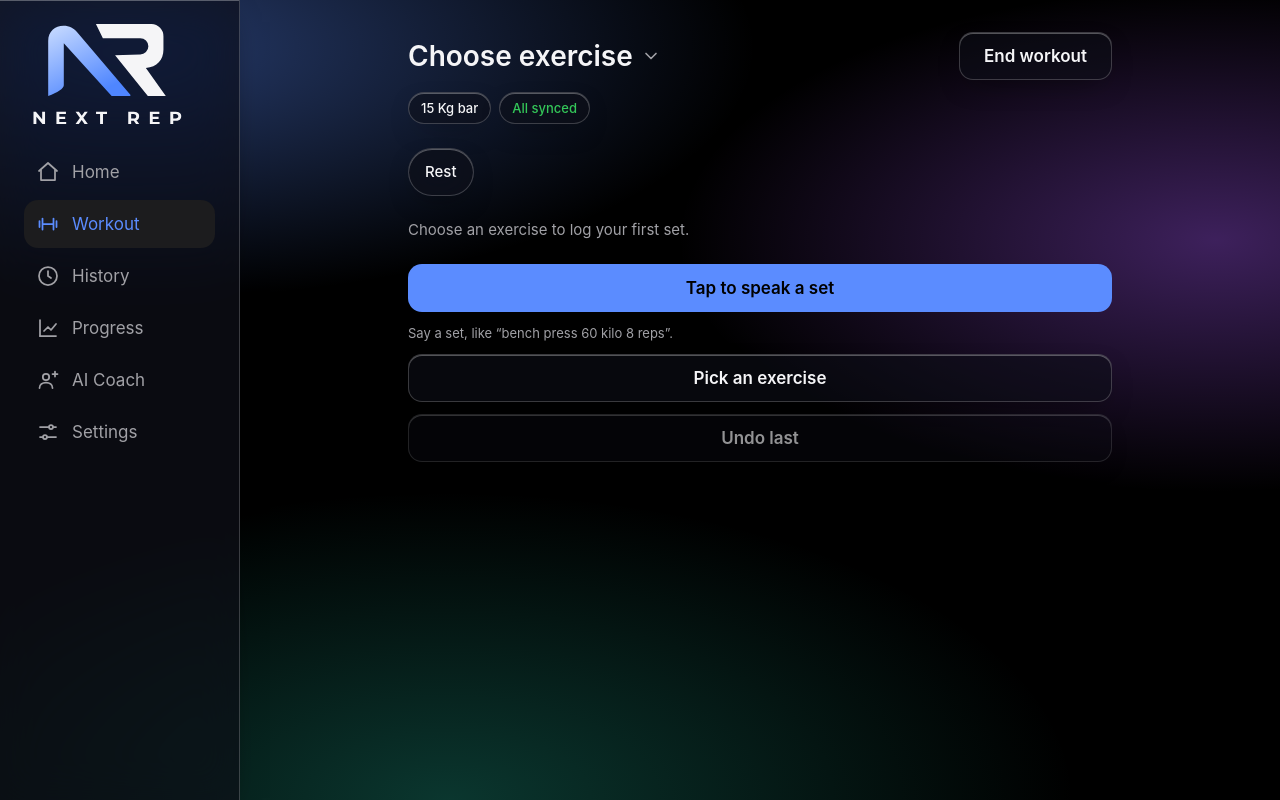
Test: starting and replacing a rest › starts a custom rest of  75  from the keyboard with Enter
The width and height of the screenshot is (1280, 800).
Click the button "Rest".
click(441, 172)  # box [408, 148, 474, 196]
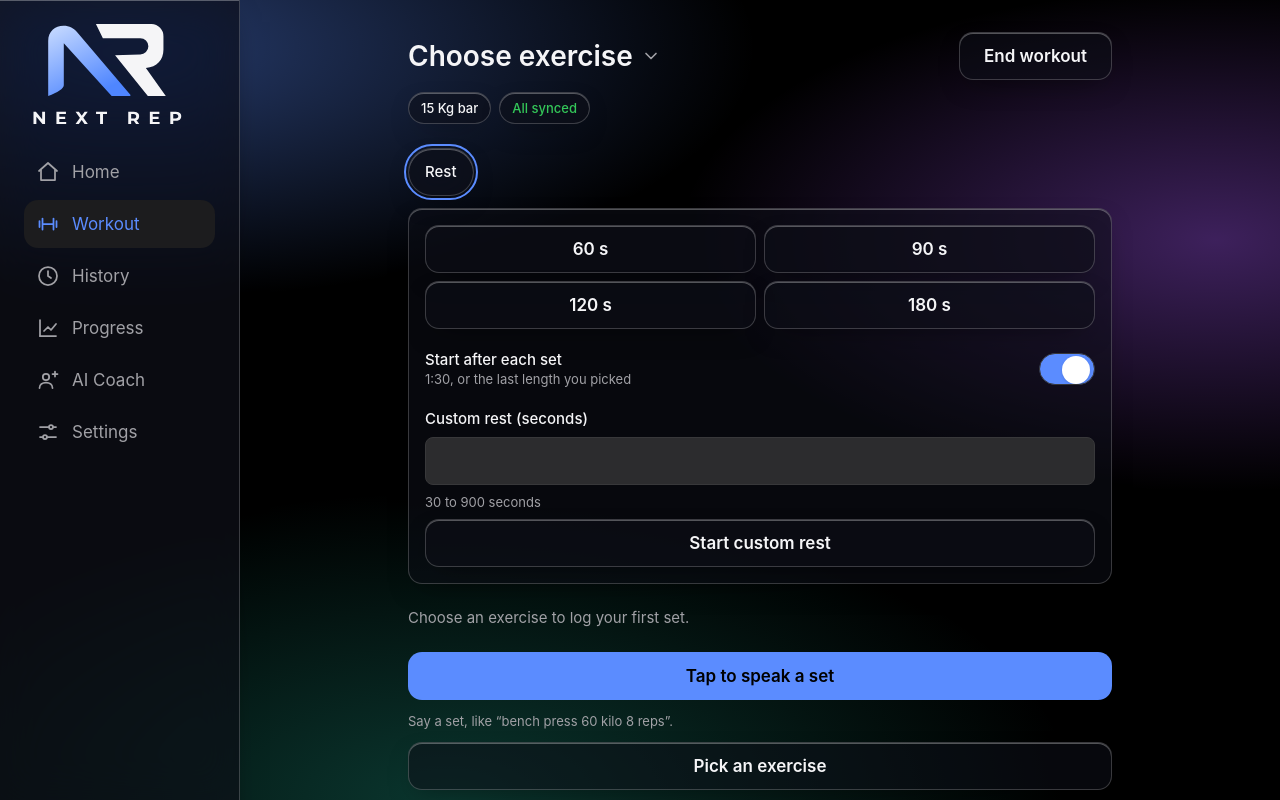
Type " 75 " into the field labelled "Custom rest (seconds)".
click(760, 461); type(" 75 ")  # box [425, 437, 1095, 485]
Then press Enter
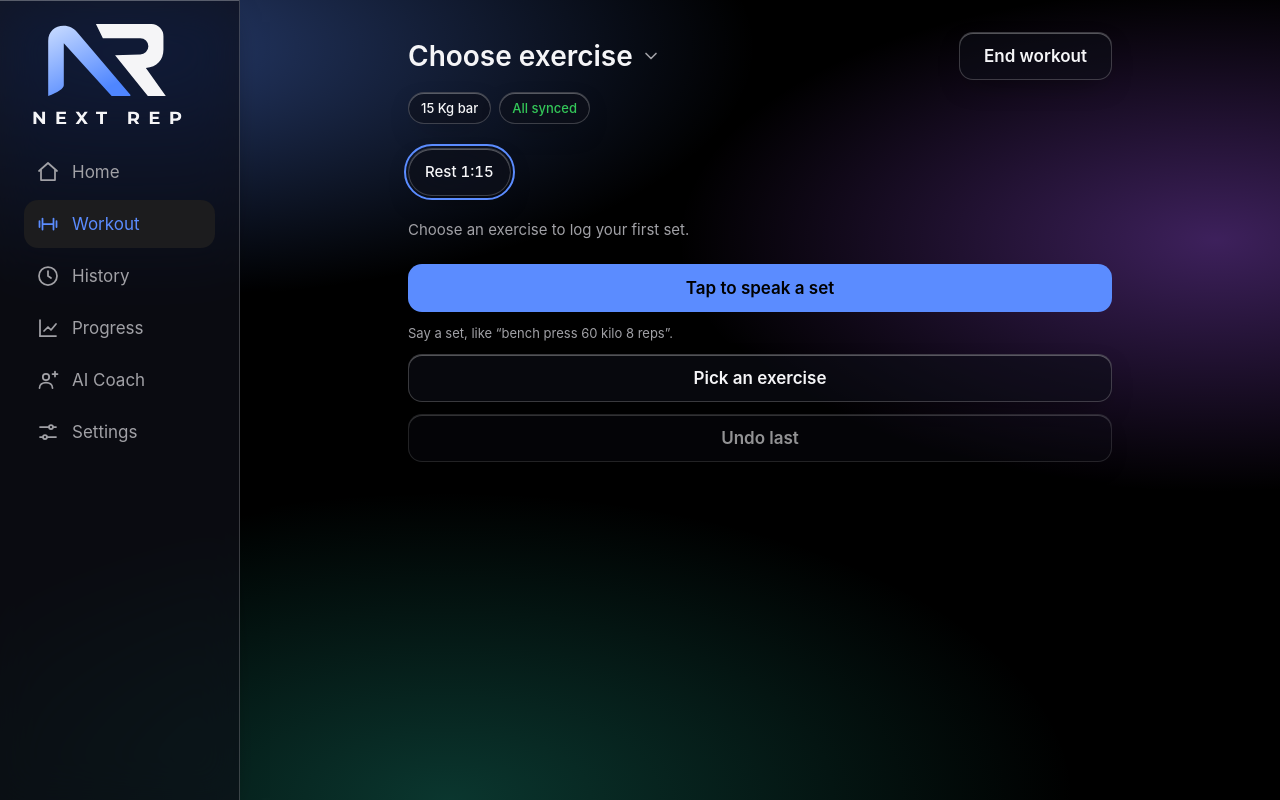
Result: the button "Rest 1:15" is shown at [408, 148, 511, 196]
